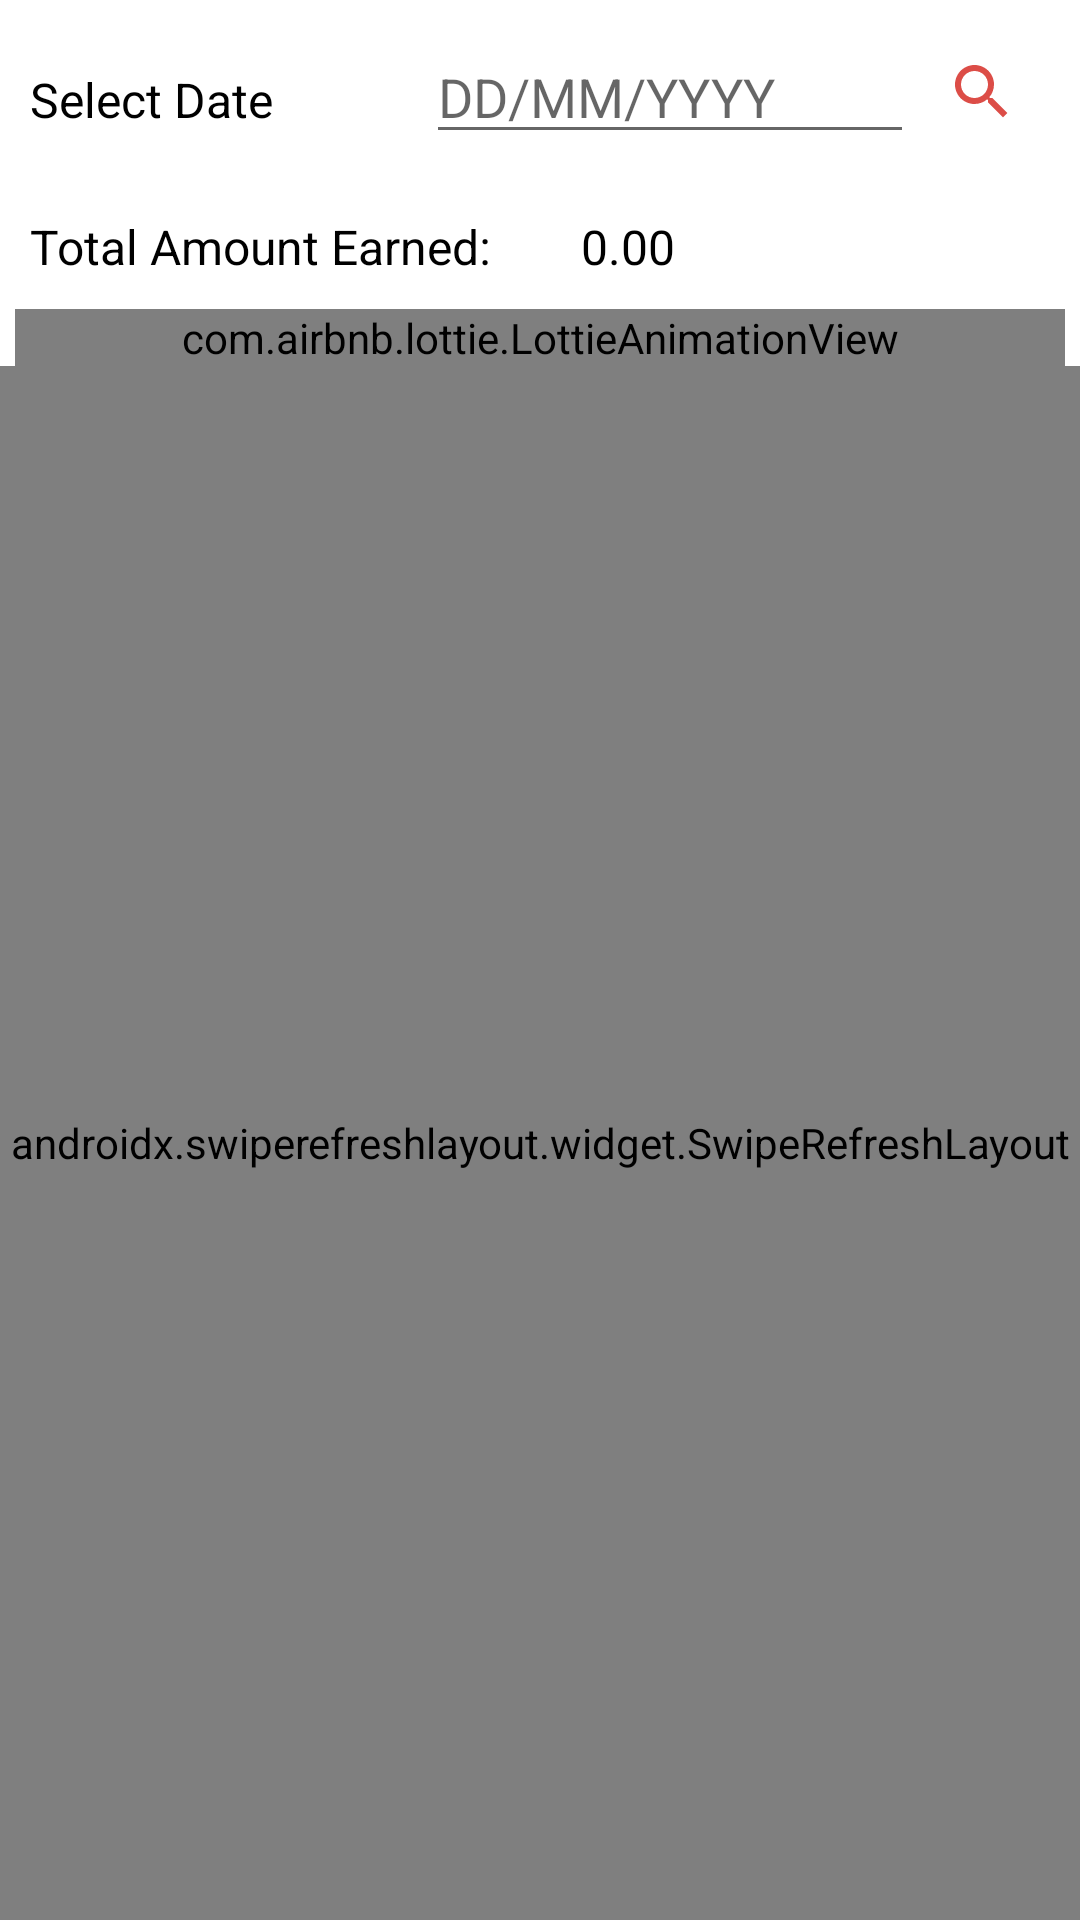

Where icons sit on this 1080w x 1920h app screen, as (x1, y1, x2, y2):
search: (955, 65, 1007, 117)
